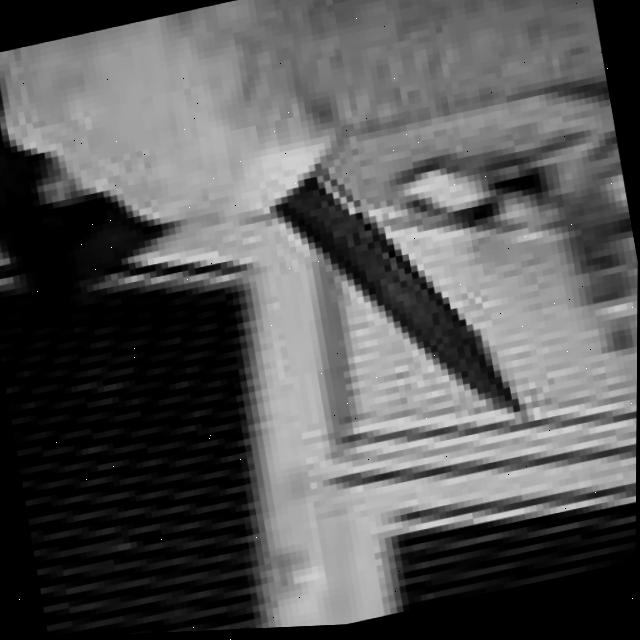knife: (260, 127, 526, 465)
